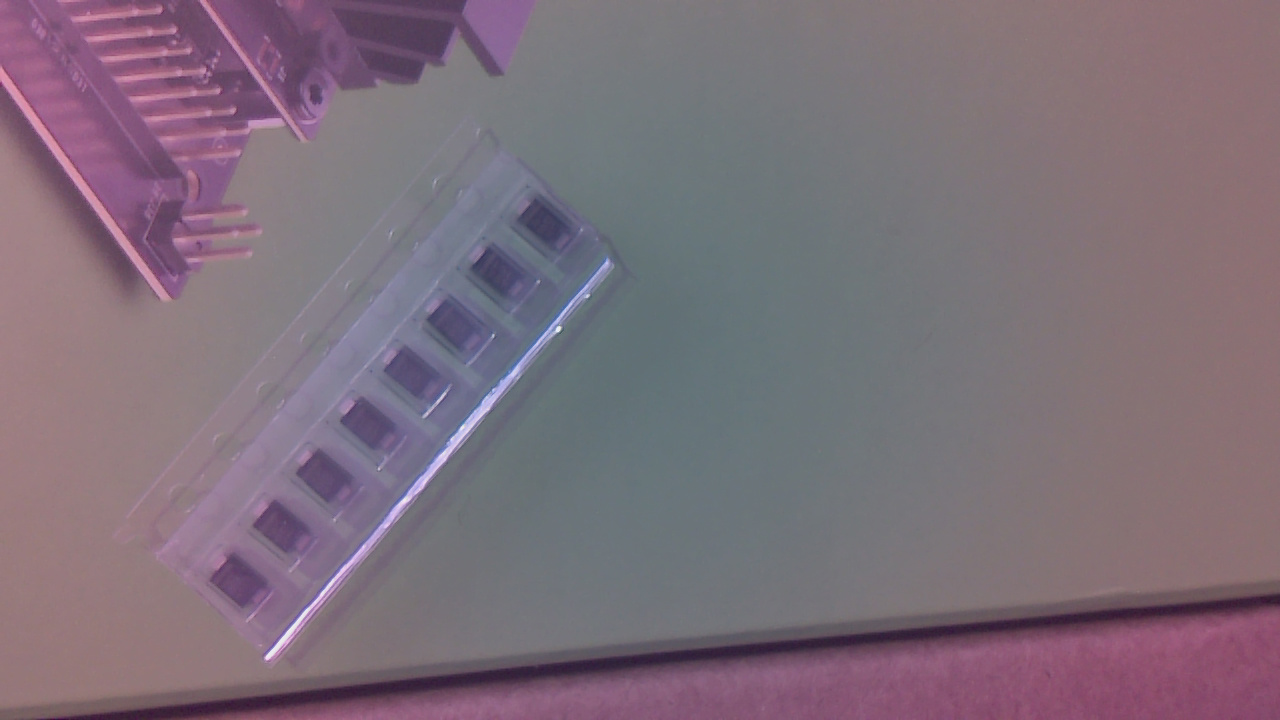Diode: (211, 553, 273, 619), (255, 503, 315, 571), (297, 449, 360, 512), (342, 399, 405, 462), (471, 243, 534, 306), (387, 348, 447, 412), (426, 300, 488, 361), (522, 202, 581, 263)
